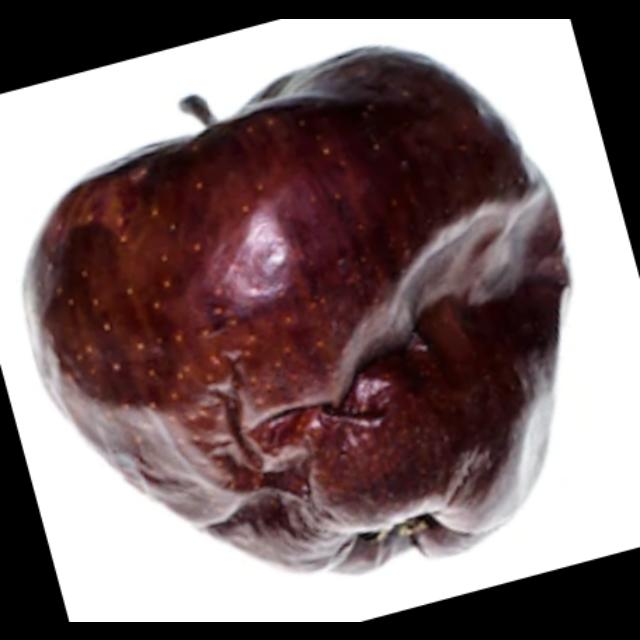Apel Tidak Segar: (22, 46, 562, 571)
